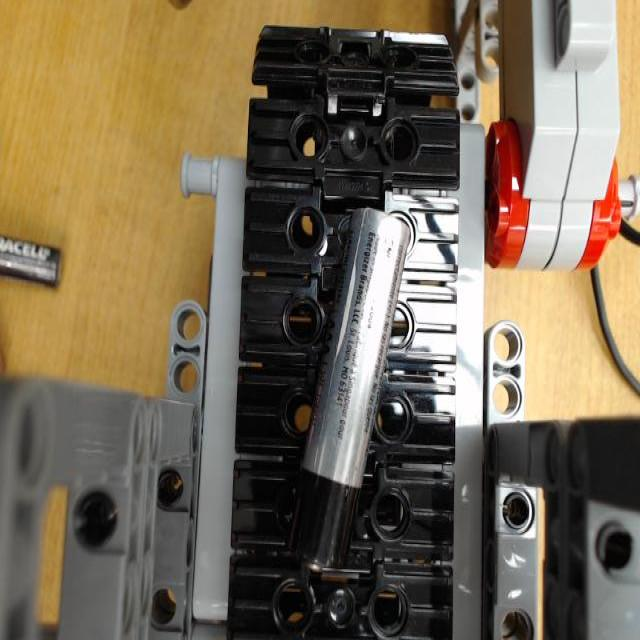AAA: (289, 205, 406, 572)
